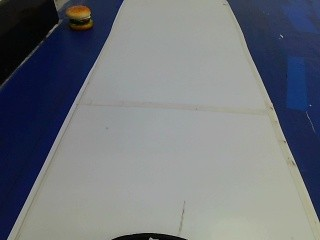burger: (65, 1, 96, 37)
